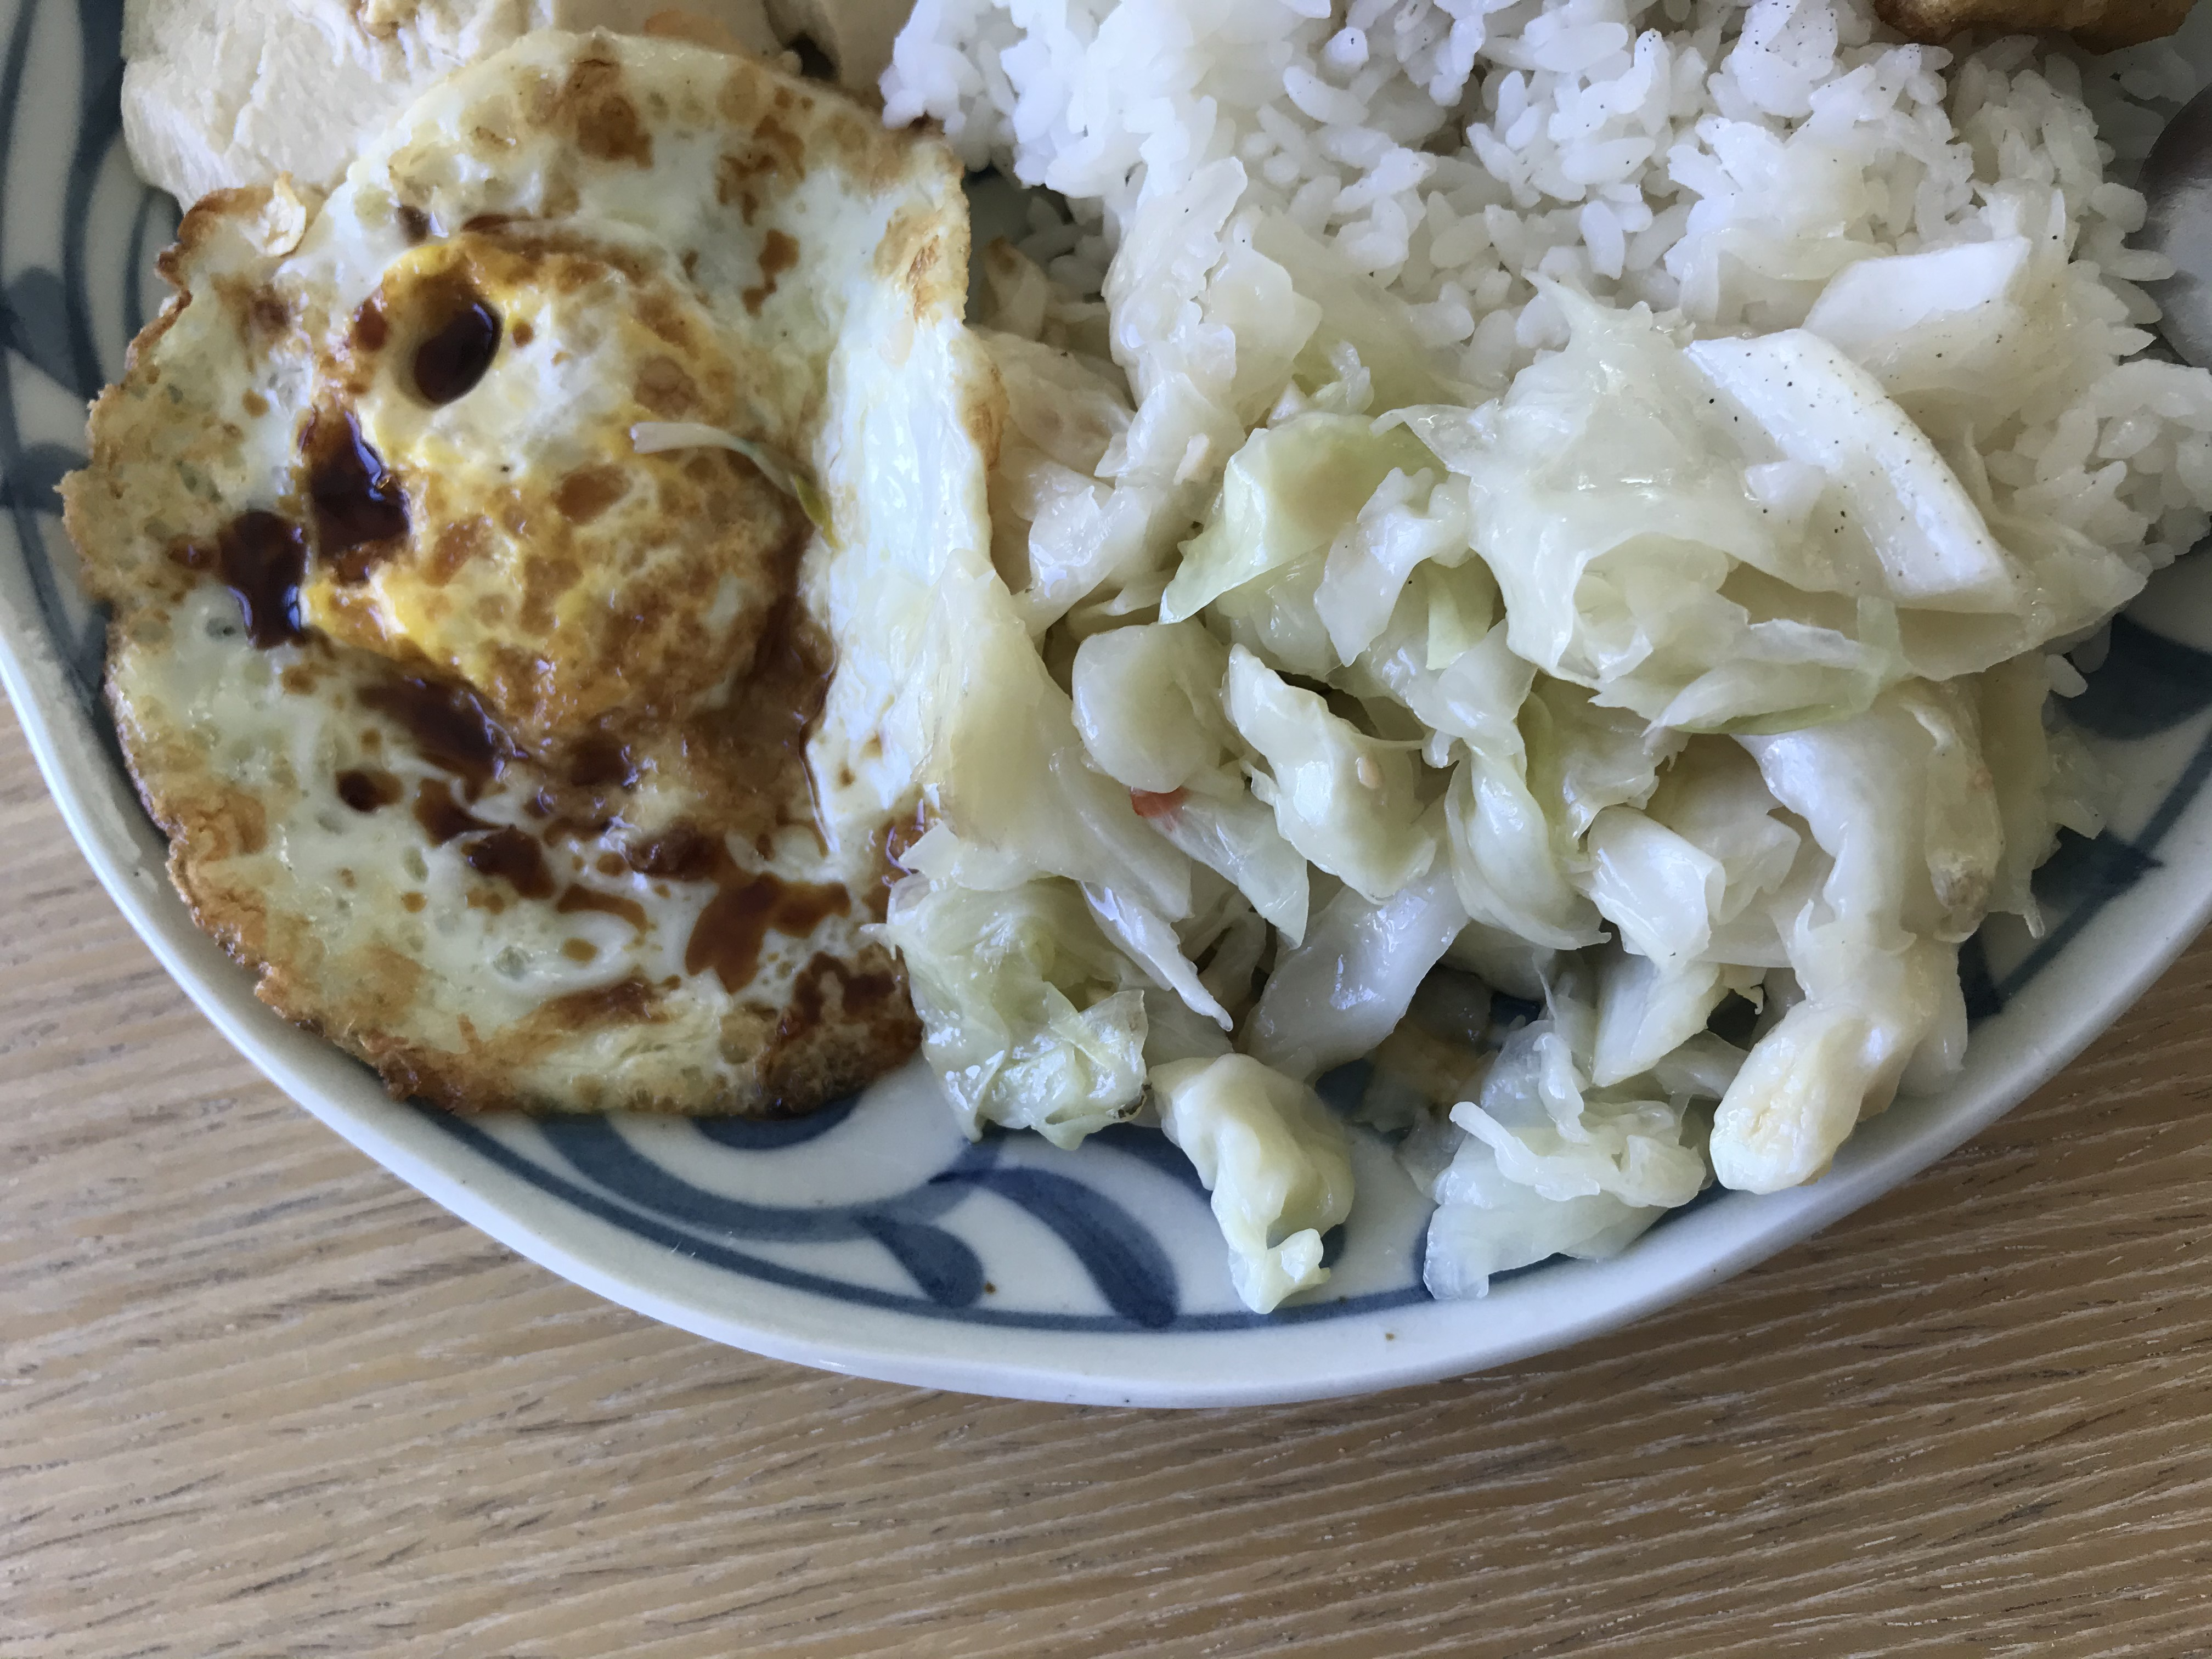chinese_cabbage: (1012, 312, 2001, 1143)
fried_eggs: (106, 40, 977, 1119)
rice: (1066, 0, 2125, 310)
